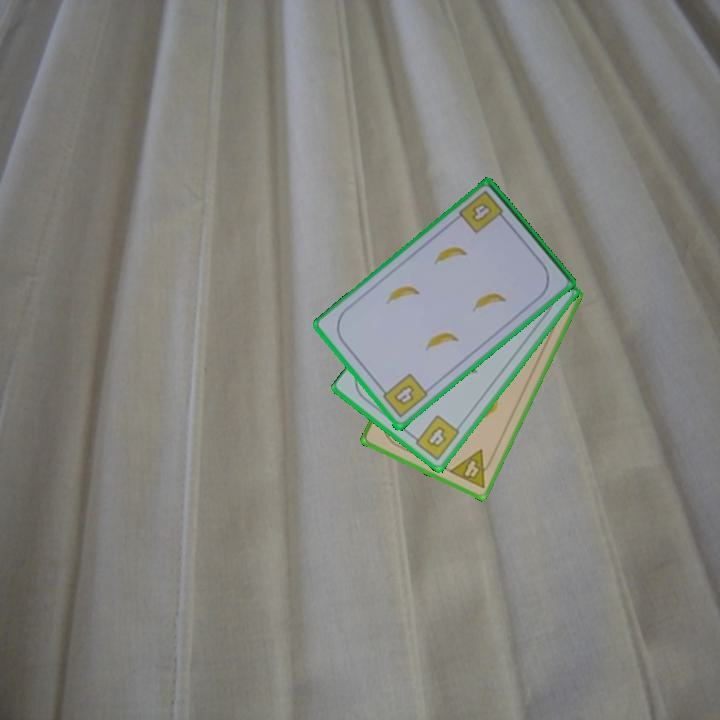4b: (408, 411, 463, 463), (376, 370, 430, 421), (468, 199, 495, 226)
4p: (445, 446, 497, 492)
